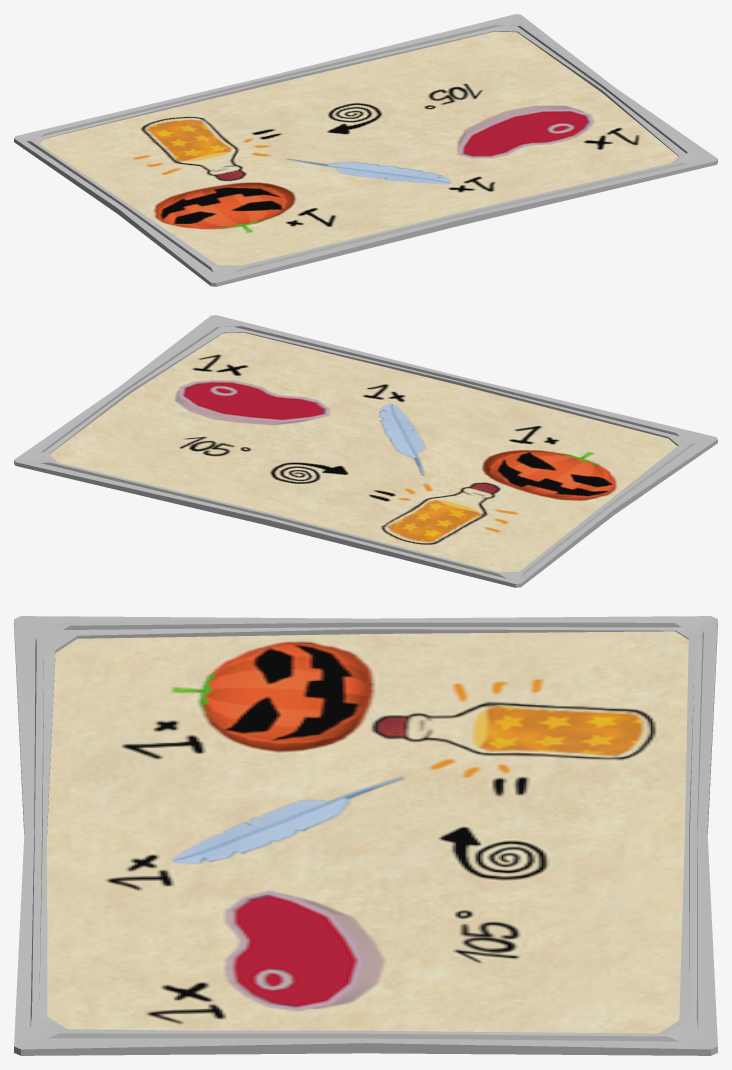
The model's file is InstructionsIngredients.fbx.
3 renders of one model, top to bottom at view 1: azimuth 30°, elevation 25°; view 2: azimuth 150°, elevation 25°; view 3: azimuth 270°, elevation 25°, orthographic. The views are drawn at different scales.
Visible parts, largest first — view 1: instructionsPaper, instructionsFrame; view 2: instructionsPaper, instructionsFrame; view 3: instructionsPaper, instructionsFrame.
Boxes of the visible parts, x1,y1,x2,y2 form: instructionsPaper: [39, 31, 678, 265]; instructionsFrame: [14, 14, 717, 286]; instructionsPaper: [49, 332, 677, 572]; instructionsFrame: [14, 315, 717, 587]; instructionsPaper: [47, 631, 688, 1033]; instructionsFrame: [14, 616, 717, 1055].
Bounding box in the file's own units: 18.39 × 0.3685 × 12.62.
